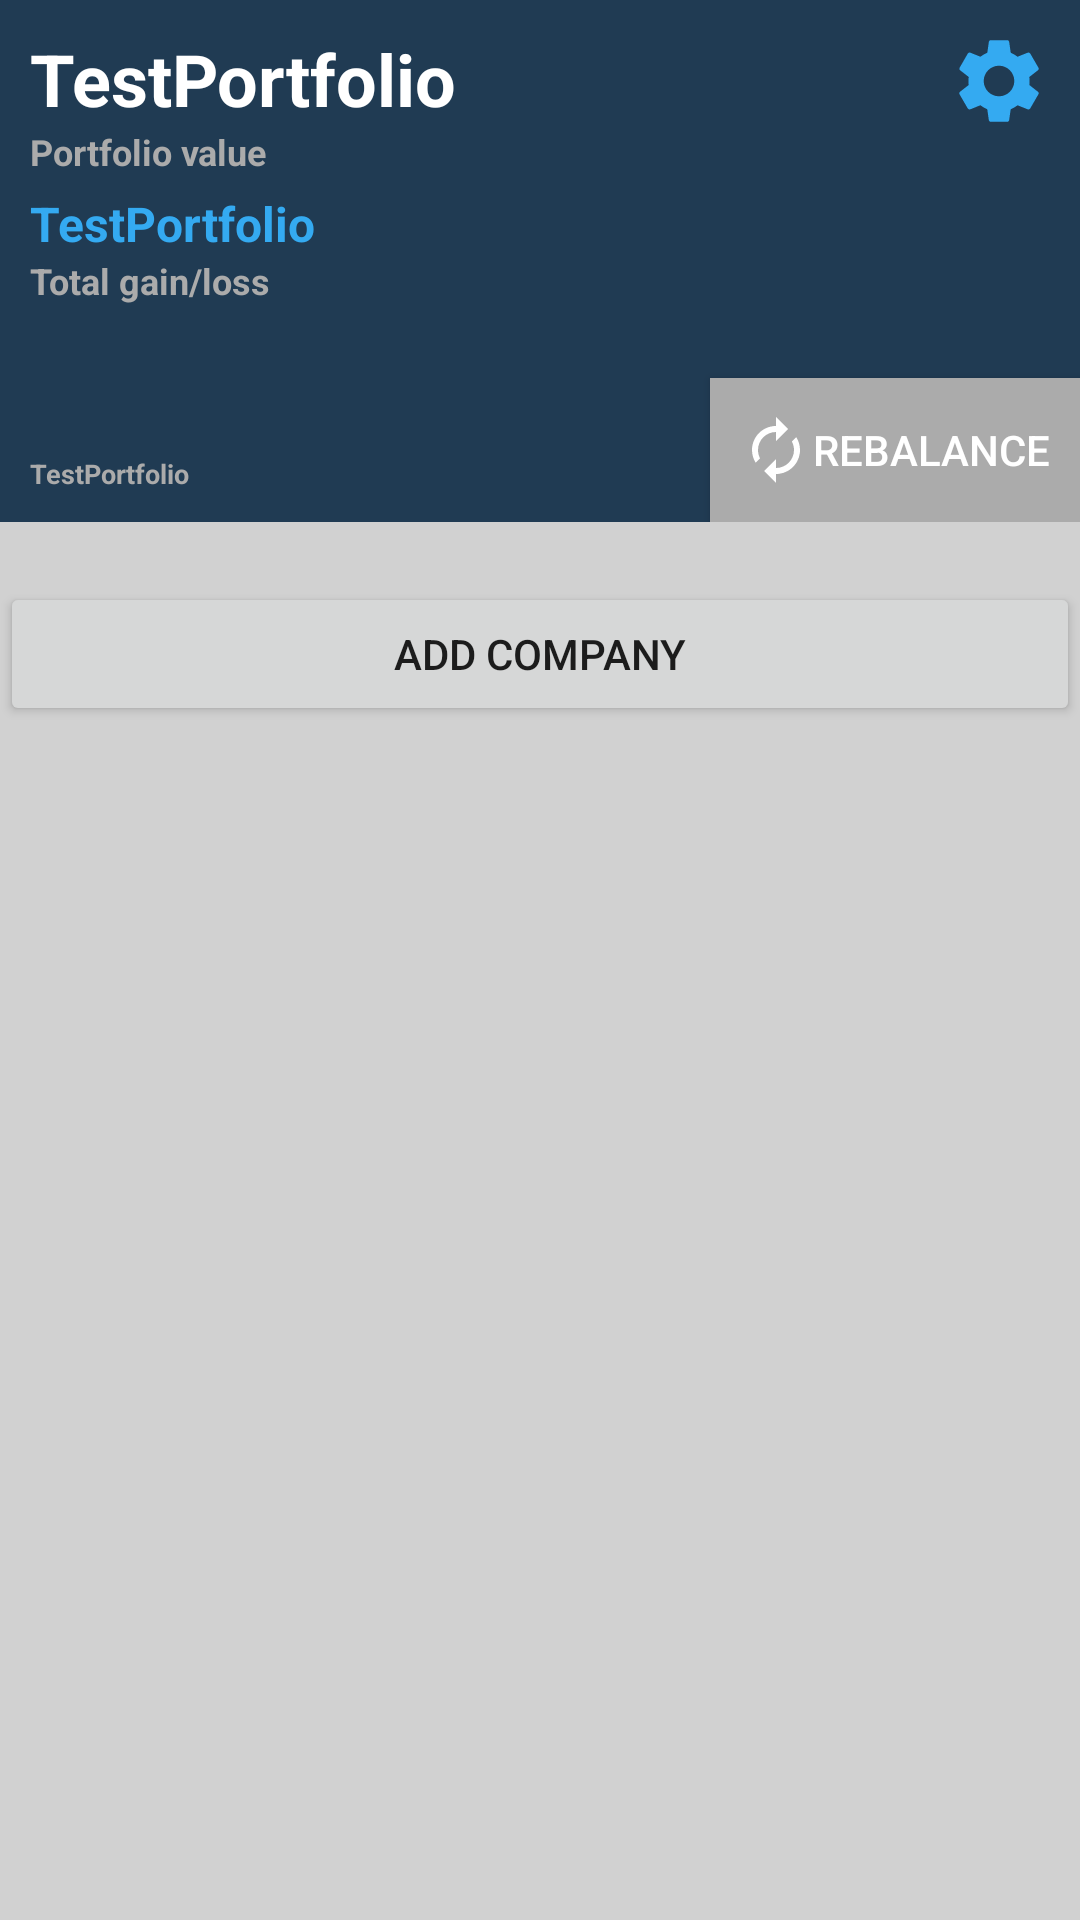

Locate icon controls on the screen. Image size 1080x1920, boxes as (x1, y1, x2, y2).
settings: (959, 40, 1039, 122)
